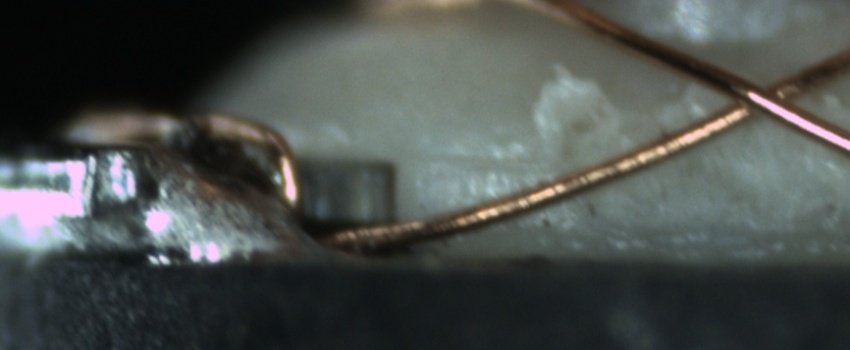CL: (694, 58, 826, 137)
DL: (400, 125, 550, 189)
TE: (66, 99, 314, 225)
